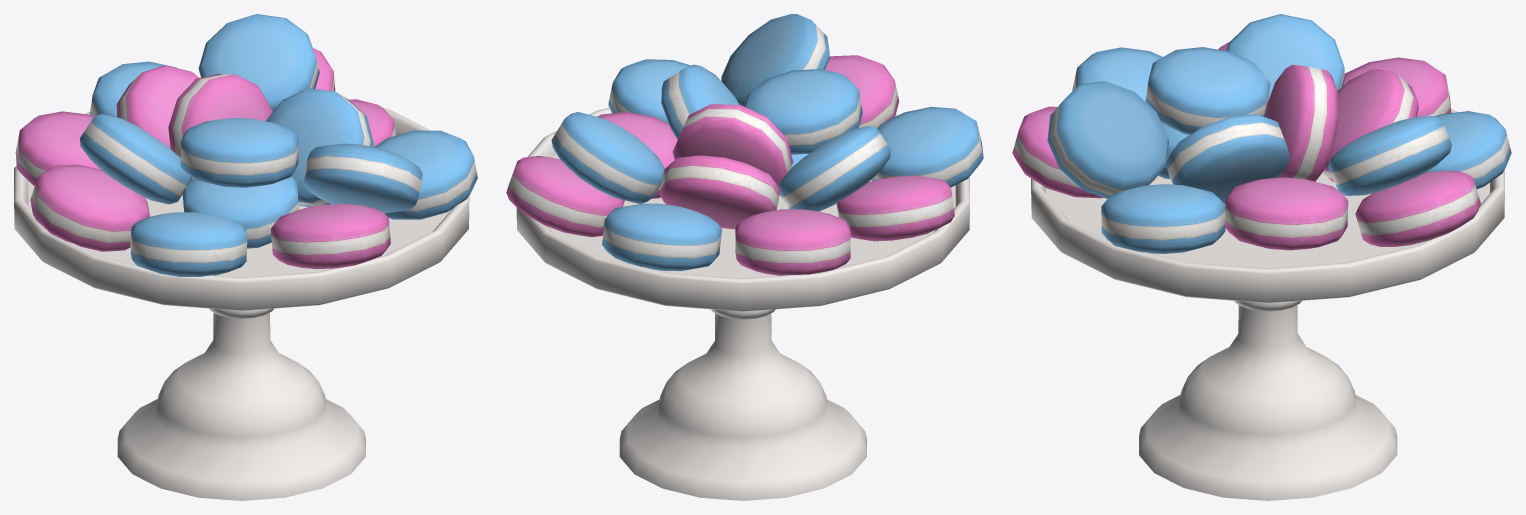
The model's file is BuffetDesserts02_1.FBX.
The picture shows the model from 3 angles, left to right: view 1: azimuth 30°, elevation 25°; view 2: azimuth 150°, elevation 25°; view 3: azimuth 270°, elevation 25°; orthographic projection. The views are drawn at different scales.
Parts seen in each view (by area): view 1: BuffetDesserts02_1; view 2: BuffetDesserts02_1; view 3: BuffetDesserts02_1.
Part boxes in pixels (x1,y1,x2,y2): BuffetDesserts02_1: (14, 14, 477, 500); BuffetDesserts02_1: (506, 14, 983, 500); BuffetDesserts02_1: (1012, 14, 1511, 500).
Size of what is drawn, in the model's own units: 0.3322 by 0.282 by 0.3415.
